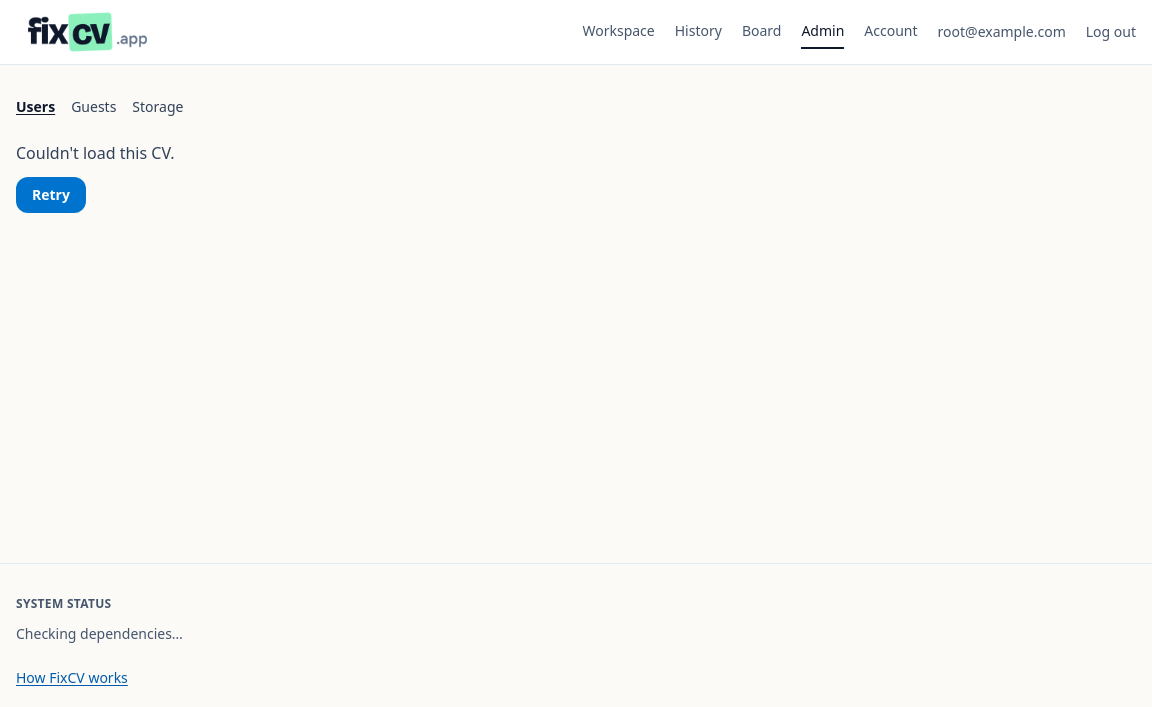
Test: the CV page — AC-27 › a 503 is an alert with Retry, distinct from loading; Retry shows the CV
expect the text "Couldn't load this CV." is shown: met, box [16,142,174,164]
What coordinates should you click on to do the following:
click the button "Retry"
I would click on:
 (51, 195)
Its box is [16,177,86,213].
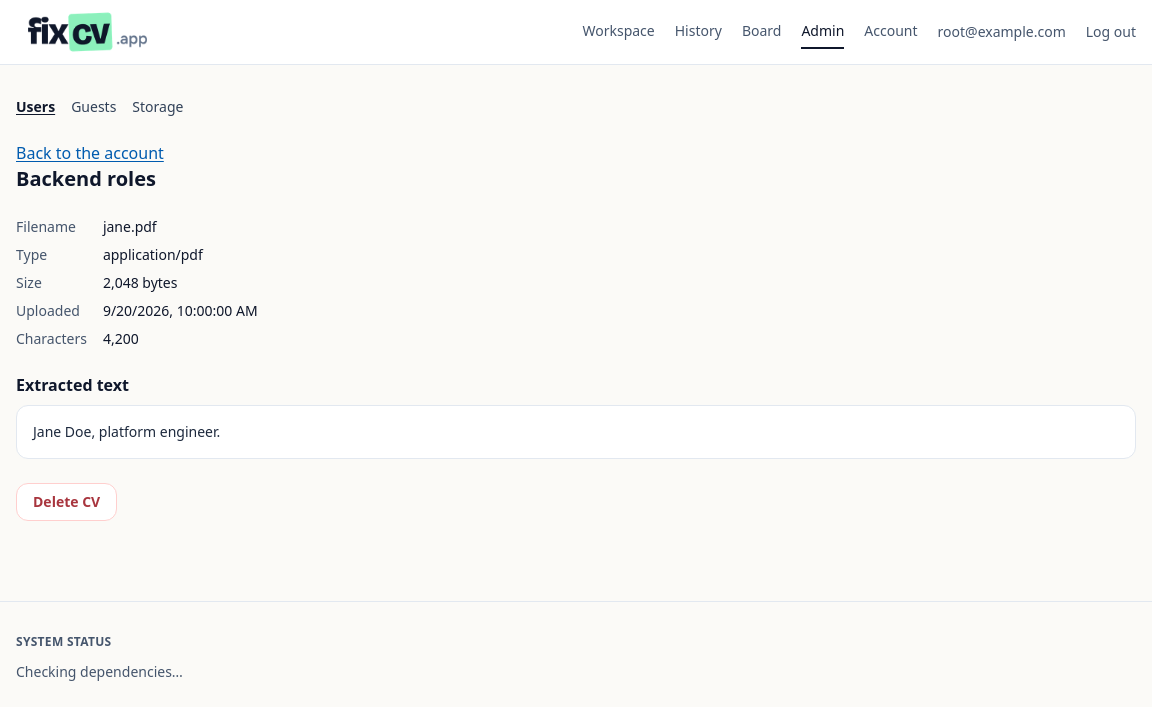
expect the heading "Backend roles" is shown: met, box [16,165,156,192]
